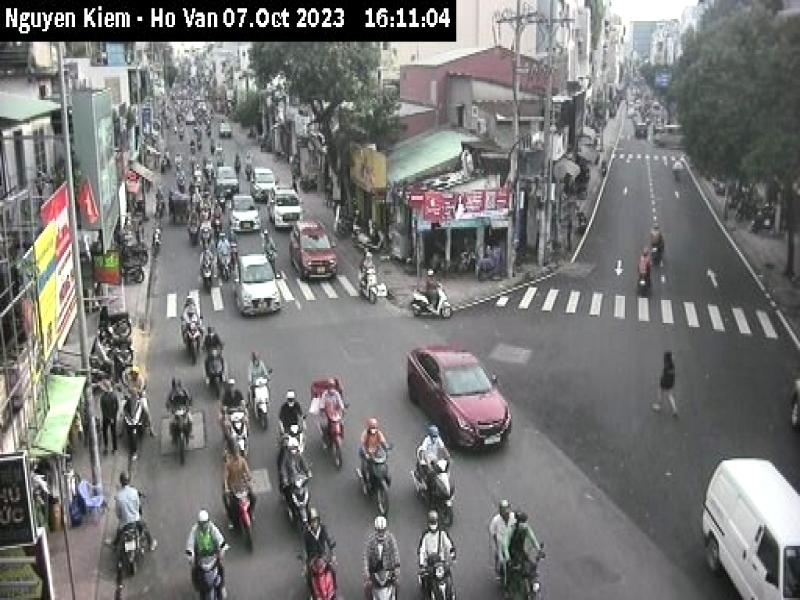car: (700, 454, 800, 600), (407, 341, 514, 456), (233, 250, 281, 316), (288, 220, 338, 280), (226, 195, 264, 234), (267, 190, 303, 227), (251, 166, 278, 198), (216, 166, 242, 198)
motorcycle: (412, 445, 456, 527), (494, 538, 545, 600), (293, 537, 337, 600), (223, 481, 259, 553), (362, 439, 393, 516), (185, 545, 228, 600), (416, 553, 460, 600), (122, 388, 150, 456), (321, 403, 348, 470), (165, 404, 193, 468), (412, 279, 452, 323), (114, 519, 146, 572), (247, 364, 273, 426), (223, 404, 252, 458), (285, 471, 314, 525), (363, 561, 399, 600), (277, 413, 308, 456), (206, 345, 226, 393), (360, 262, 380, 304), (186, 321, 201, 358)
